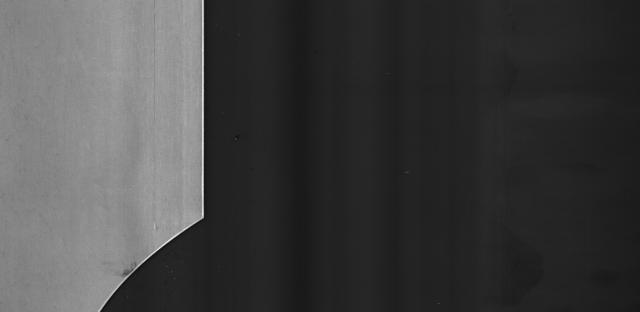crescent_gap: (85, 213, 231, 312)
